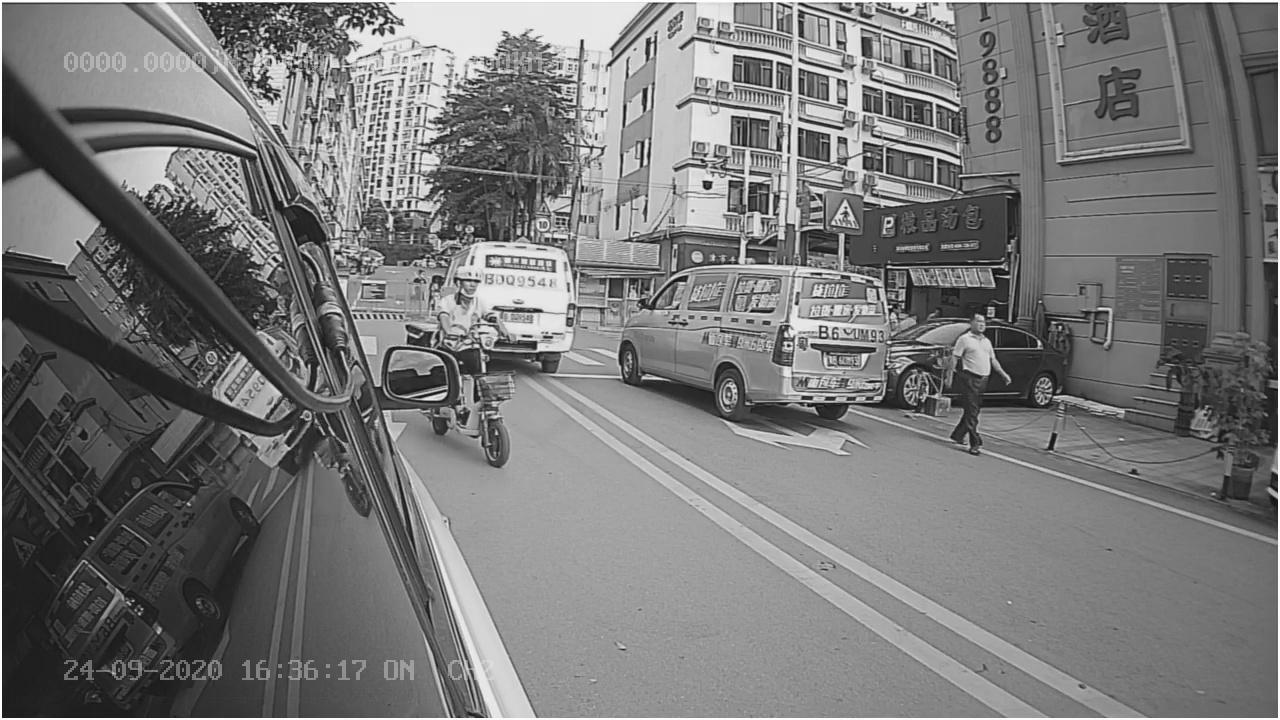person: (929, 301, 1030, 464)
